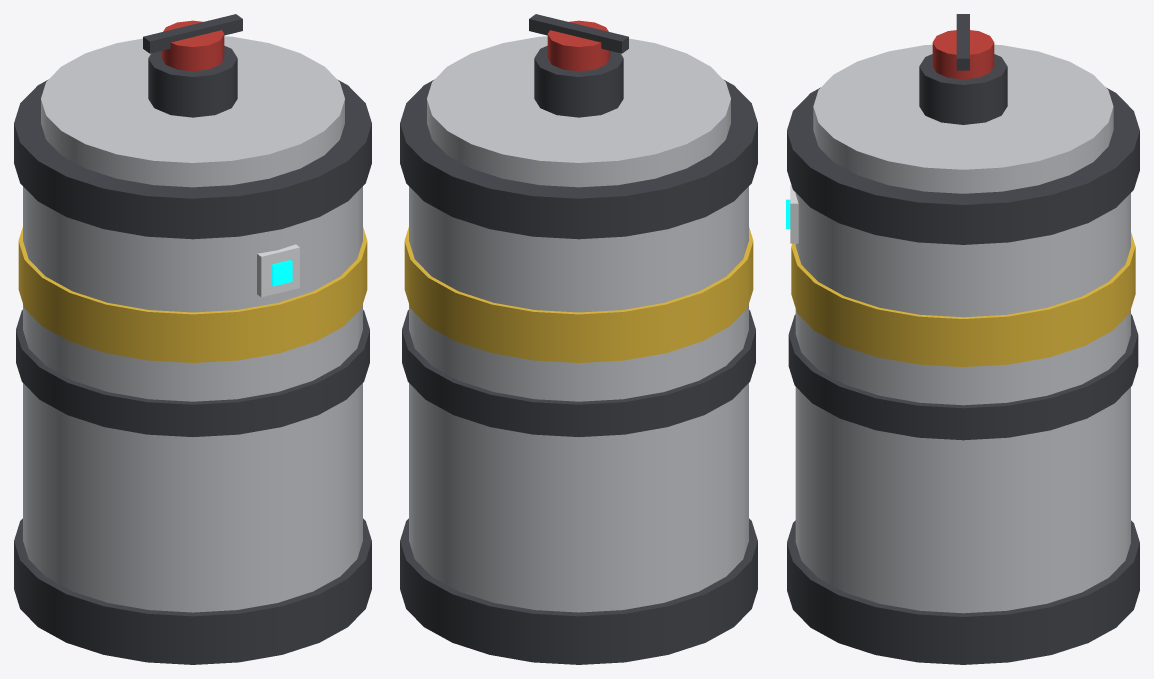
File: FV_Prop_Canister.fbx
The picture shows the model from 3 angles, left to right: view 1: azimuth 30°, elevation 25°; view 2: azimuth 150°, elevation 25°; view 3: azimuth 270°, elevation 25°; orthographic projection.
Parts seen in each view (by area): view 1: Prop_Canister; view 2: Prop_Canister; view 3: Prop_Canister.
Boxes of the visible parts, x1,y1,x2,y2 form: Prop_Canister: (14,14,371,664); Prop_Canister: (400,14,757,664); Prop_Canister: (786,14,1139,664).
Bounding box in the file's own units: 0.4 × 0.6925 × 0.401.
